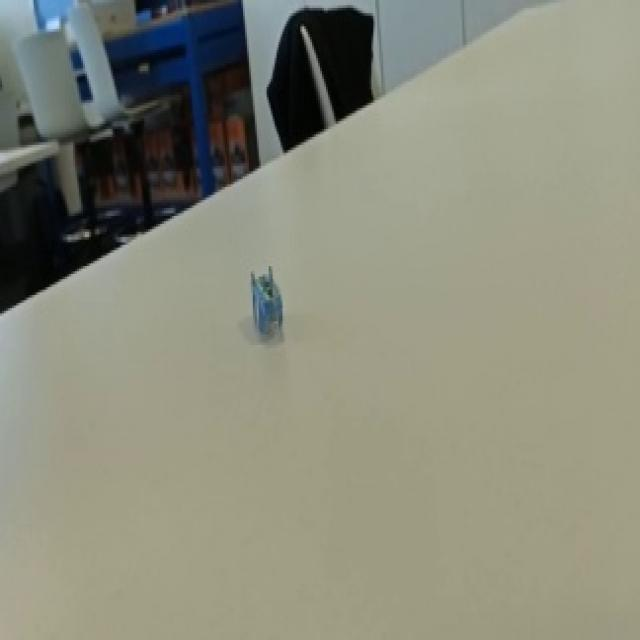3_NanoBug_Celeste: (220, 238, 317, 355)
